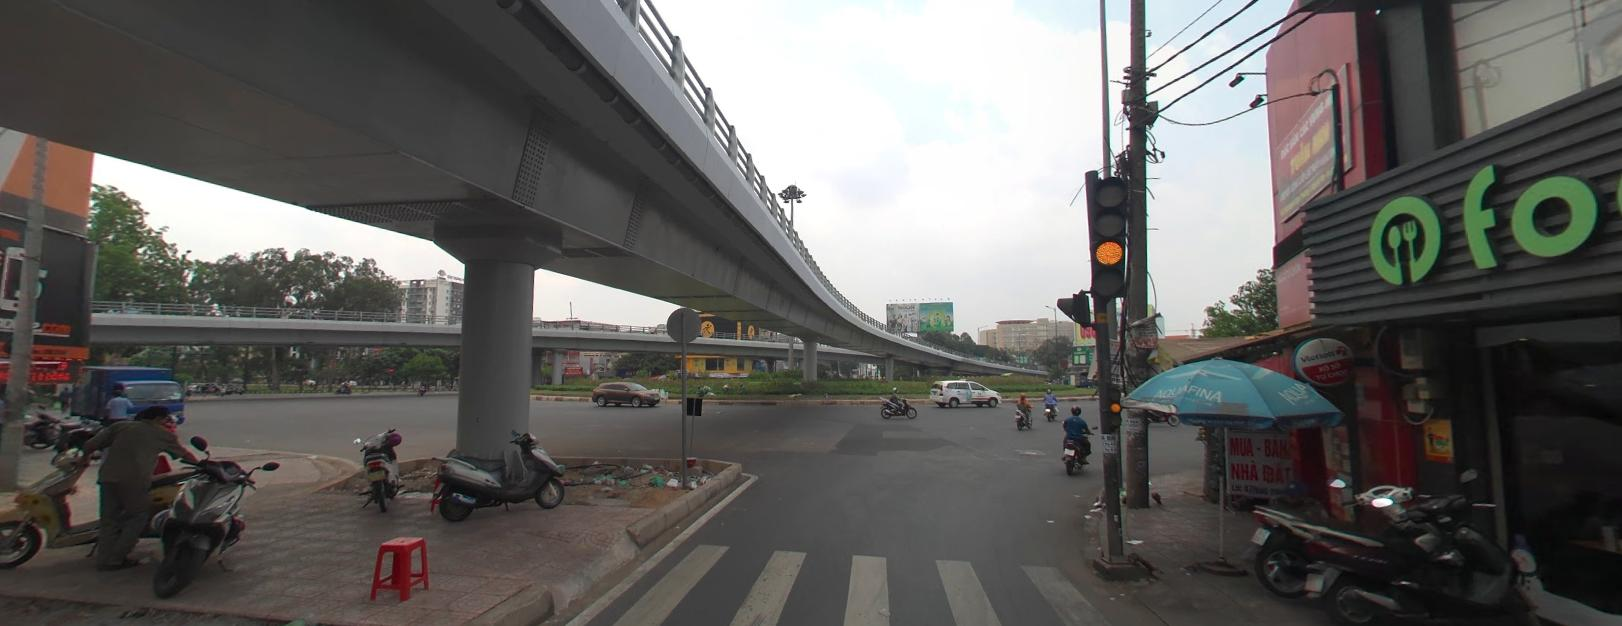Cam nguoc chieu: (387, 366, 394, 372)
